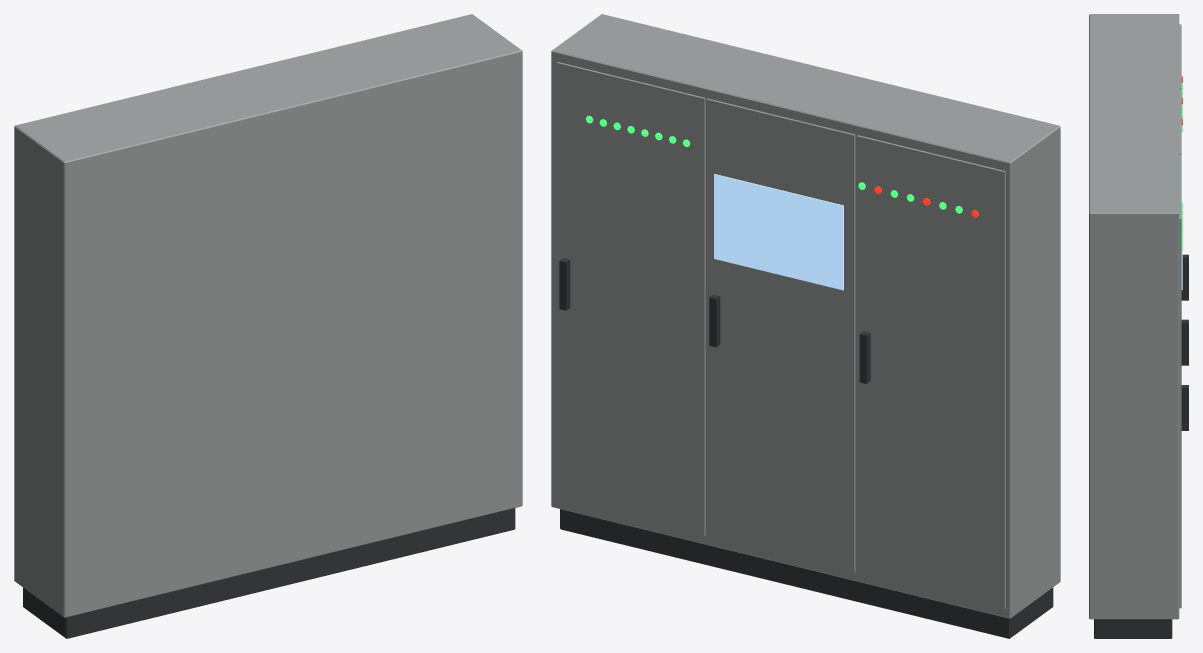
The model's file is prop_plant_panel.glb.
3 views of the same model, side by side, from view 1: azimuth 30°, elevation 25°; view 2: azimuth 150°, elevation 25°; view 3: azimuth 270°, elevation 25° (orthographic). The views are drawn at different scales.
Visible parts, largest first — view 1: Panel; view 2: Panel; view 3: Panel.
Boxes of the visible parts, box(x1,y1,x2,y2) form: Panel: box(14, 14, 522, 638); Panel: box(551, 14, 1060, 638); Panel: box(1089, 14, 1188, 638).
Size of what is drawn, in the model's own units: 1.99 by 1.99 by 0.42.
